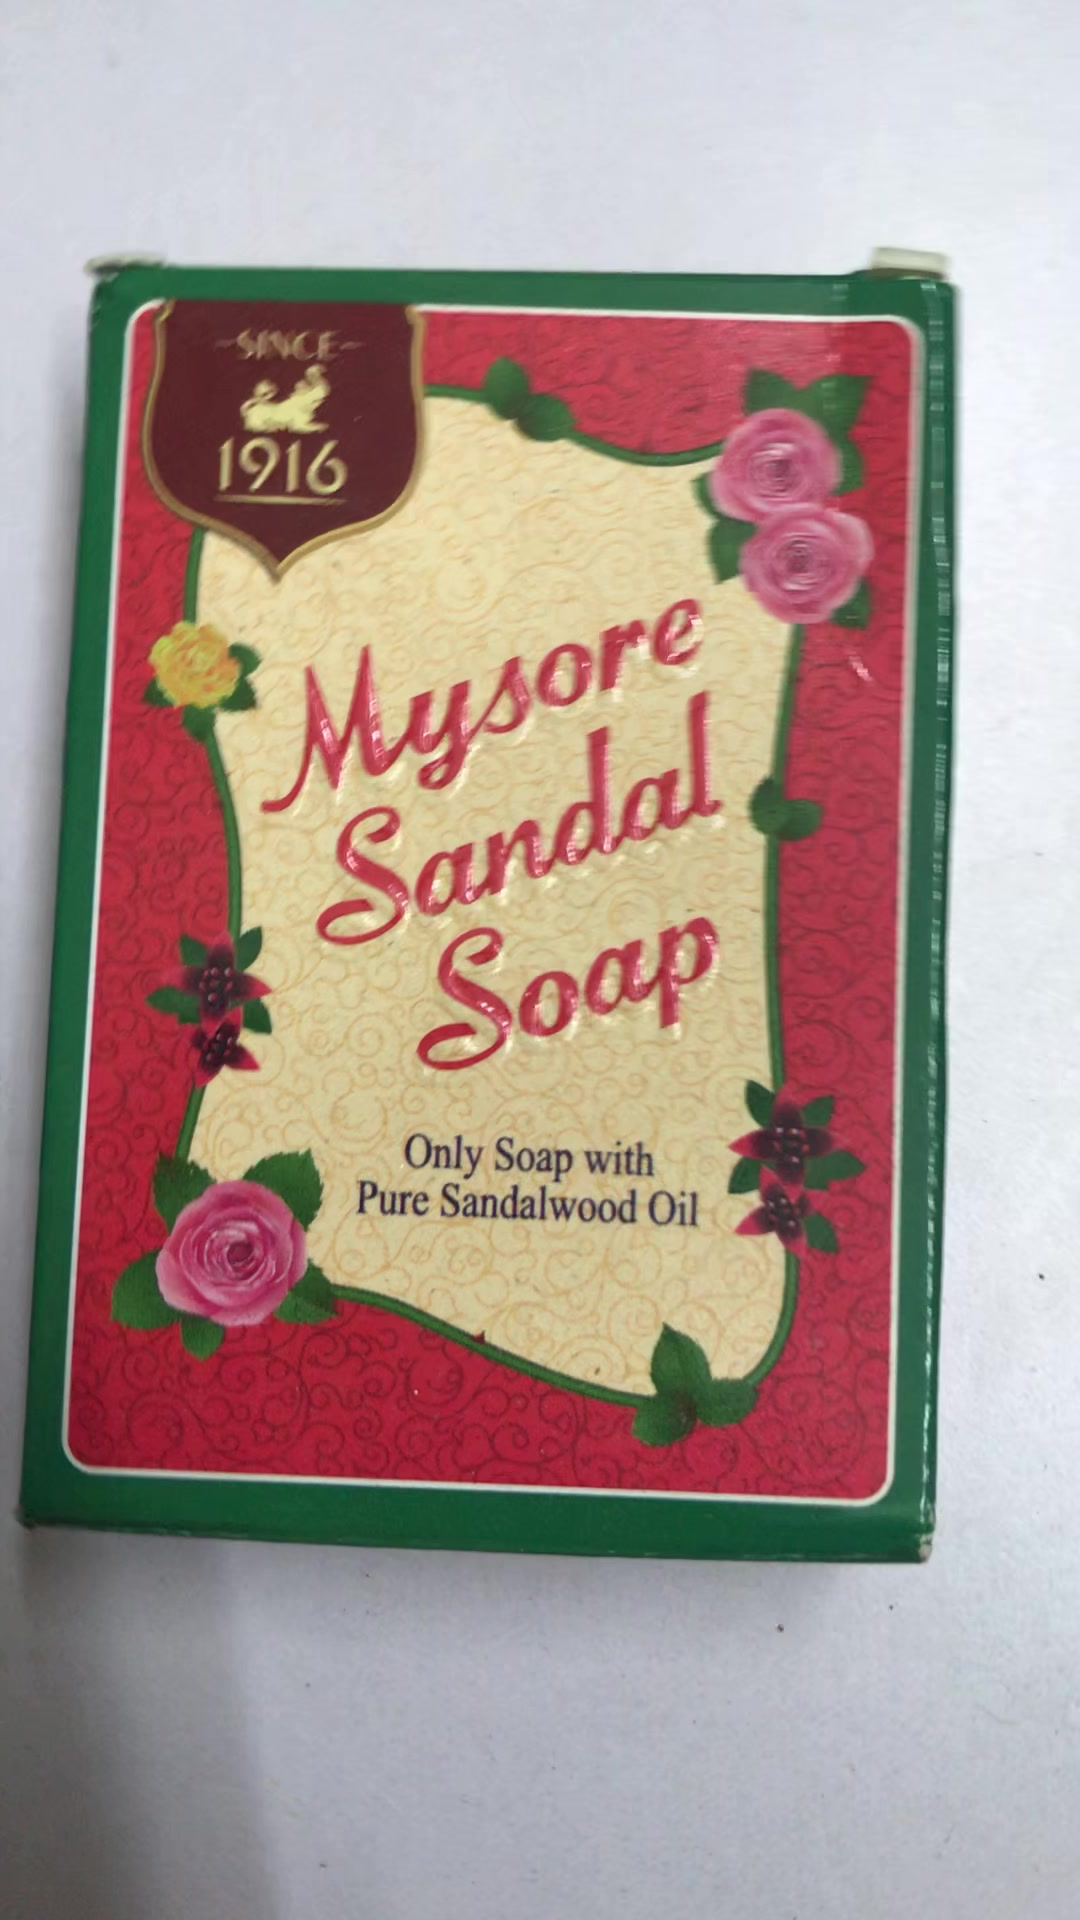mysore sandal soap: (36, 255, 945, 1569)
